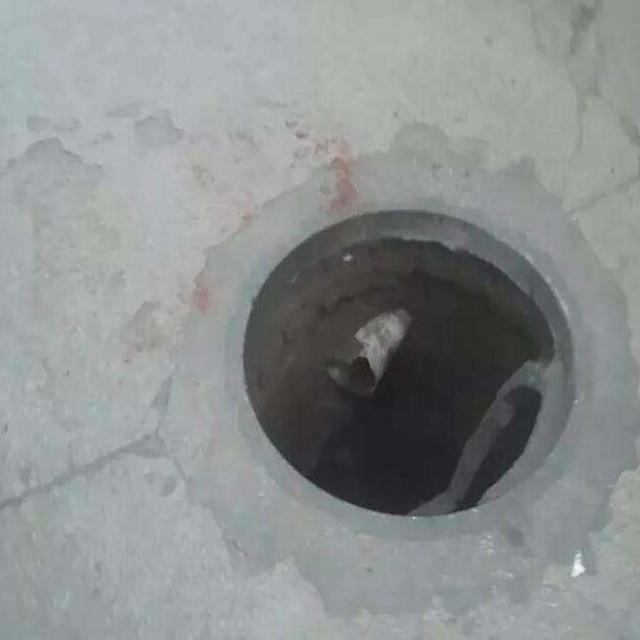manhole-cover: (241, 213, 574, 521)
